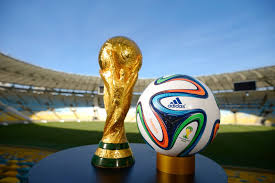soccer ball: (135, 72, 225, 157)
trophy: (91, 33, 142, 172)
